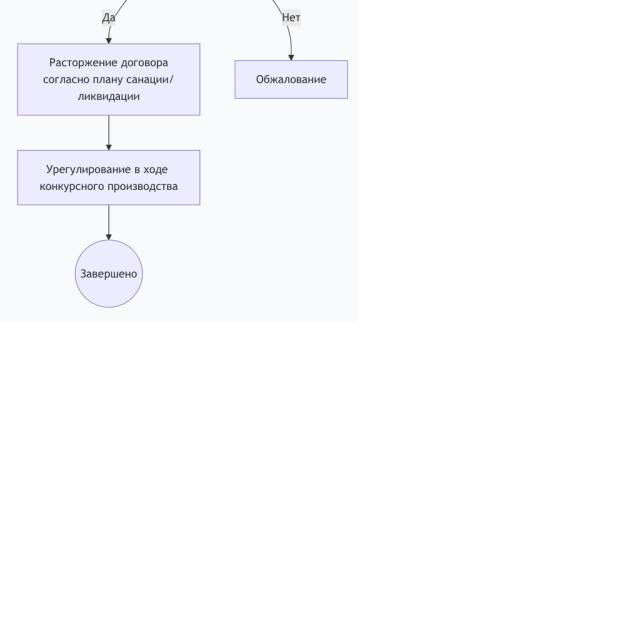arrow: (104, 115, 114, 150), (104, 206, 114, 239)
circle: (63, 227, 154, 319)
rectangle: (18, 43, 199, 114), (18, 150, 199, 205), (235, 60, 348, 98)
text_region: (281, 11, 302, 24), (102, 11, 117, 25)
